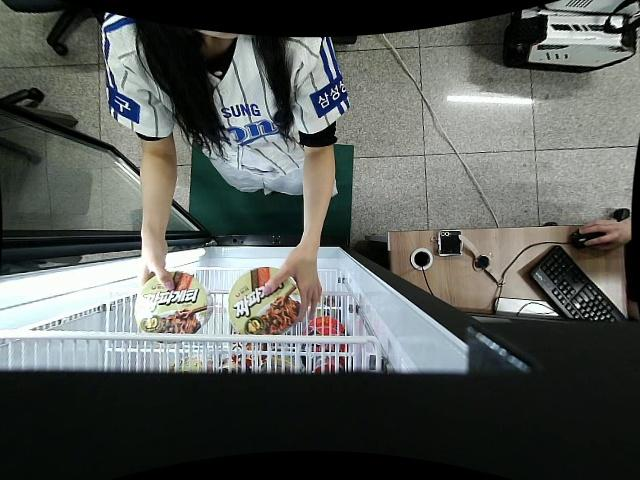00_hand: (264, 252, 323, 323), (136, 241, 176, 295)
03_chapagetti_L: (135, 273, 214, 339), (230, 267, 302, 335)
